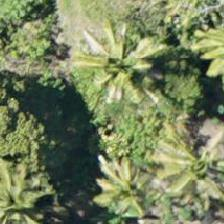coconut_tree: (72, 19, 162, 109), (90, 138, 180, 223), (148, 121, 223, 211), (0, 147, 59, 223)
